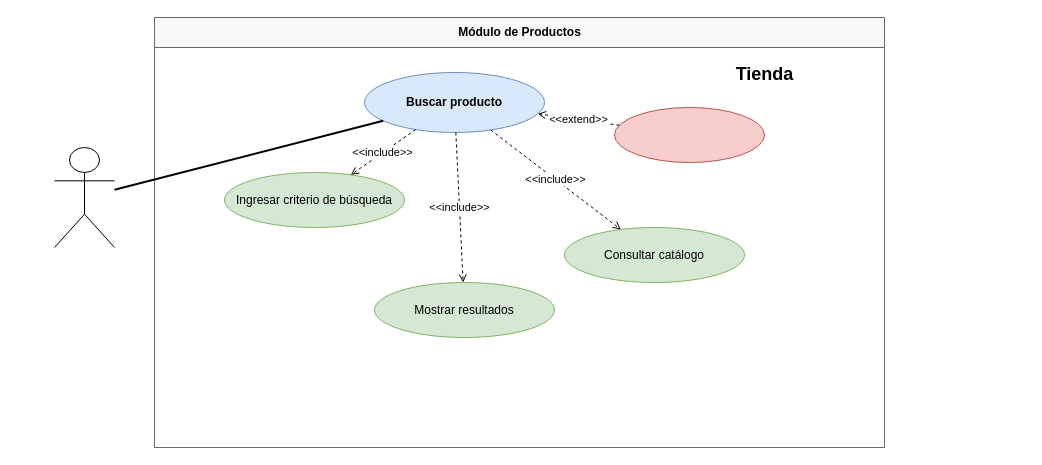
Some shapes in this 1042 by 465 pixel diagram are drawn without their labels. The shapes that lost their labels are listed below. From the top down, each one's centre as x and y in pixels, then its label:
At pixel 689 134: "Producto no encontrado".
At pixel 84 197: "Vendedor / Administrador".
